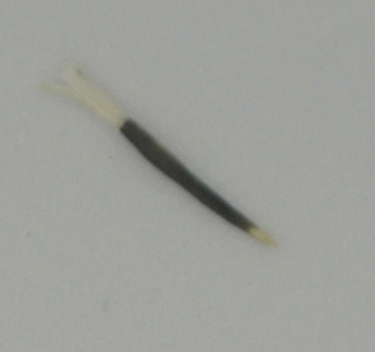เมล็ดดีเรียวยาว: (54, 65, 283, 246)
